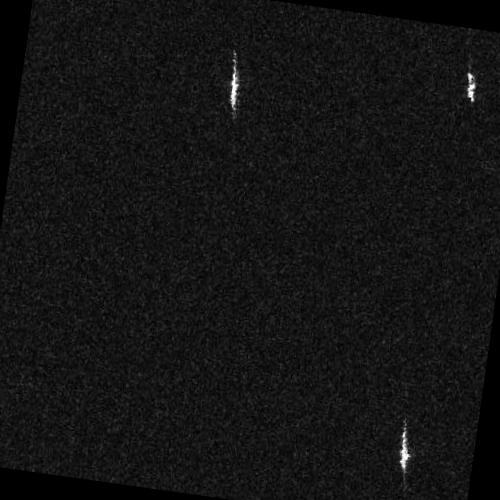ship: (397, 423, 411, 478), (228, 49, 240, 113), (466, 71, 477, 105)
